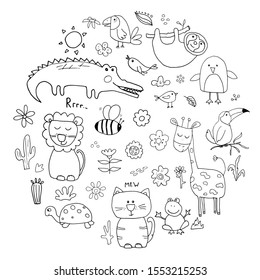animal: (165, 117, 233, 217), (23, 52, 144, 106), (40, 109, 92, 184), (146, 23, 209, 70), (40, 194, 99, 237), (153, 196, 197, 237), (152, 86, 182, 113)
bird: (190, 56, 241, 106), (98, 9, 146, 49), (207, 103, 247, 144), (92, 102, 128, 139), (126, 51, 162, 75)
cat: (107, 181, 159, 255)
flower: (95, 146, 124, 175), (15, 103, 36, 130), (124, 139, 148, 161), (149, 129, 171, 152), (132, 108, 153, 131), (150, 166, 169, 188), (172, 164, 187, 191), (85, 182, 105, 201), (95, 40, 113, 57)
sun: (56, 26, 90, 56)
